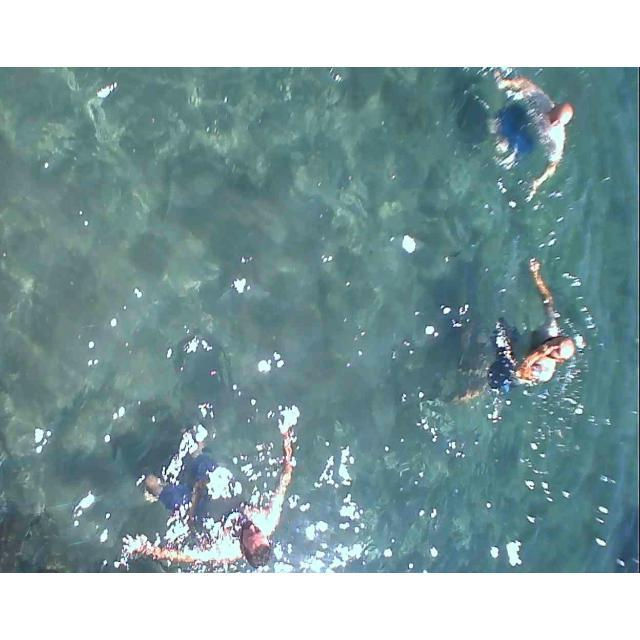human: (112, 456, 298, 565), (468, 249, 581, 426), (475, 67, 587, 186)
